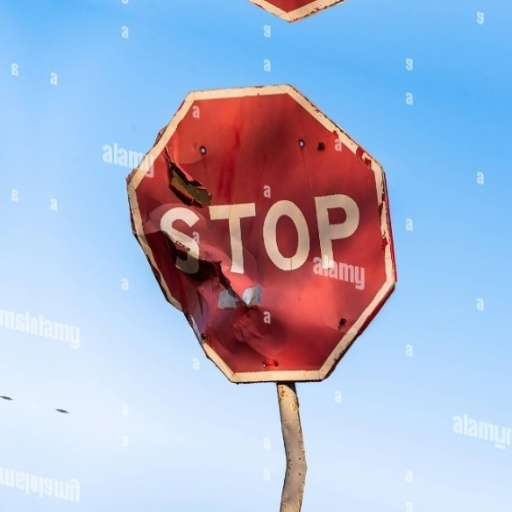Stop: (97, 62, 404, 405)
